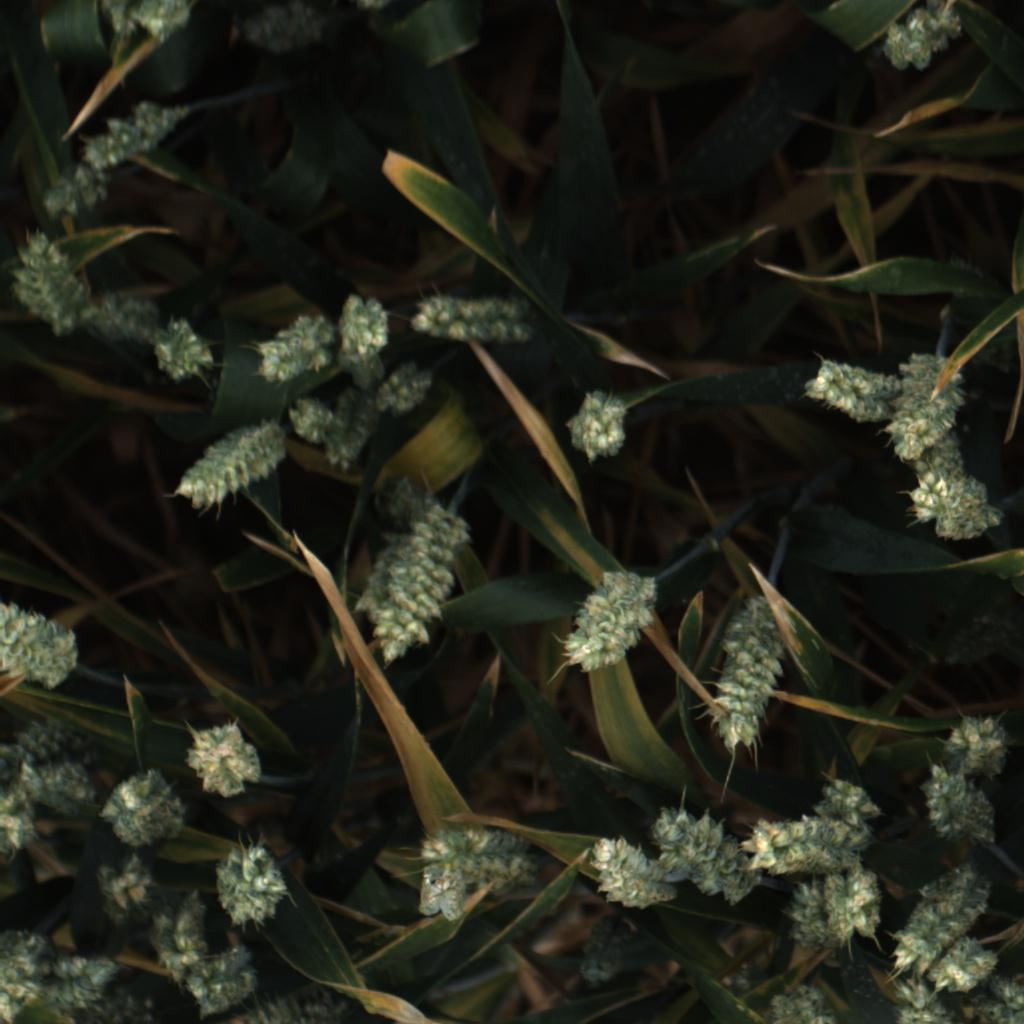0-0: (361, 487, 480, 667), (702, 604, 784, 756), (883, 865, 986, 982), (169, 416, 287, 514), (652, 798, 758, 907), (557, 563, 658, 676), (895, 341, 970, 489), (9, 227, 94, 344), (415, 820, 548, 893), (738, 810, 871, 880), (912, 758, 1004, 859), (402, 282, 539, 348), (1, 705, 100, 792), (95, 763, 190, 851), (208, 839, 294, 935), (885, 350, 962, 456), (904, 467, 1004, 546), (577, 827, 671, 910), (142, 879, 212, 990), (2, 596, 82, 693), (186, 718, 272, 803), (767, 881, 849, 970), (932, 706, 1021, 785), (801, 770, 892, 846), (83, 96, 183, 165), (800, 344, 888, 422), (815, 868, 893, 953), (319, 382, 386, 473), (187, 943, 266, 1020), (560, 385, 636, 465), (29, 755, 111, 829), (569, 912, 641, 995), (253, 314, 331, 388), (3, 920, 58, 1024), (332, 286, 402, 367), (100, 847, 165, 932), (151, 311, 221, 387), (1, 758, 55, 856), (948, 596, 1020, 669), (31, 158, 113, 222), (43, 943, 119, 1011), (239, 0, 330, 55), (924, 938, 1009, 996), (107, 0, 199, 52), (234, 984, 352, 1024), (411, 864, 475, 935), (373, 362, 440, 429), (87, 288, 163, 346), (769, 979, 848, 1024), (46, 993, 170, 1021), (281, 394, 337, 454), (879, 18, 937, 75), (889, 977, 959, 1024), (909, 0, 969, 52), (975, 972, 1024, 1020)
